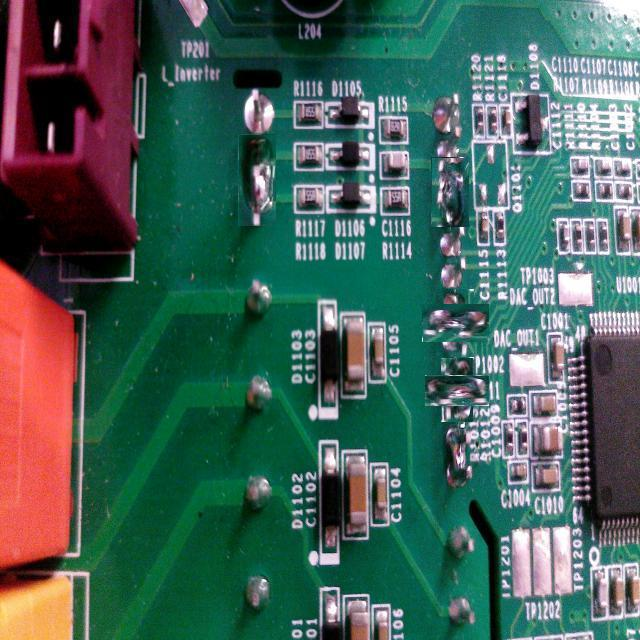Short_circuit: (238, 134, 276, 226), (428, 297, 482, 350), (431, 157, 469, 227), (434, 366, 482, 414), (444, 425, 475, 492)
